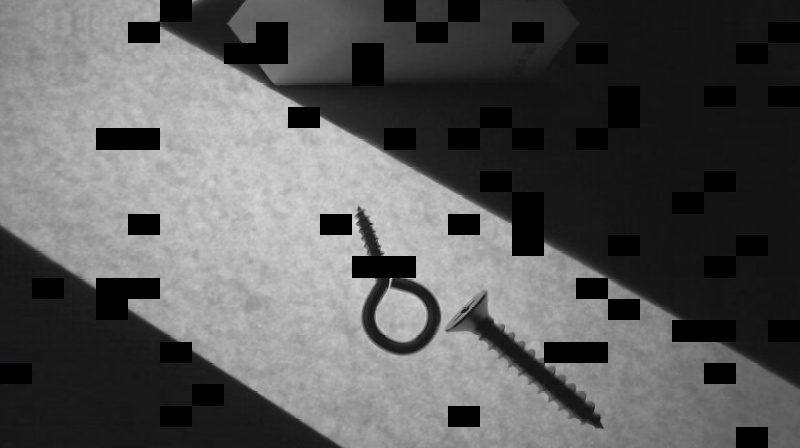O001: (346, 202, 440, 355)
S001: (443, 289, 604, 431)
